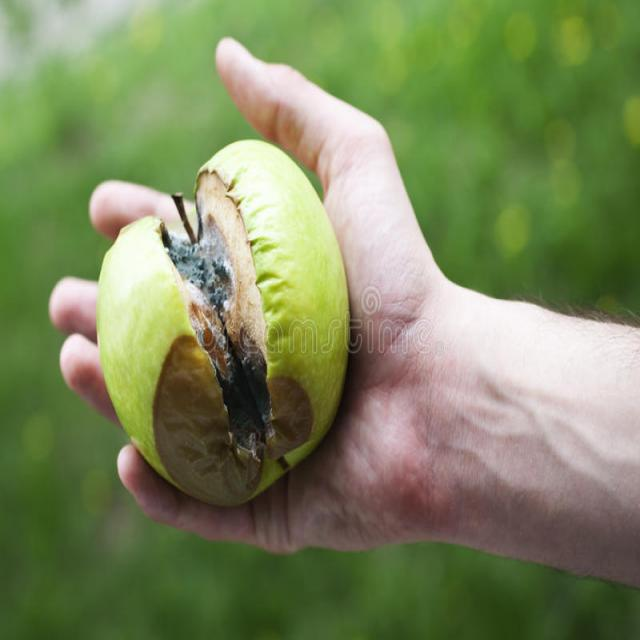Rotten: (99, 153, 349, 480)
